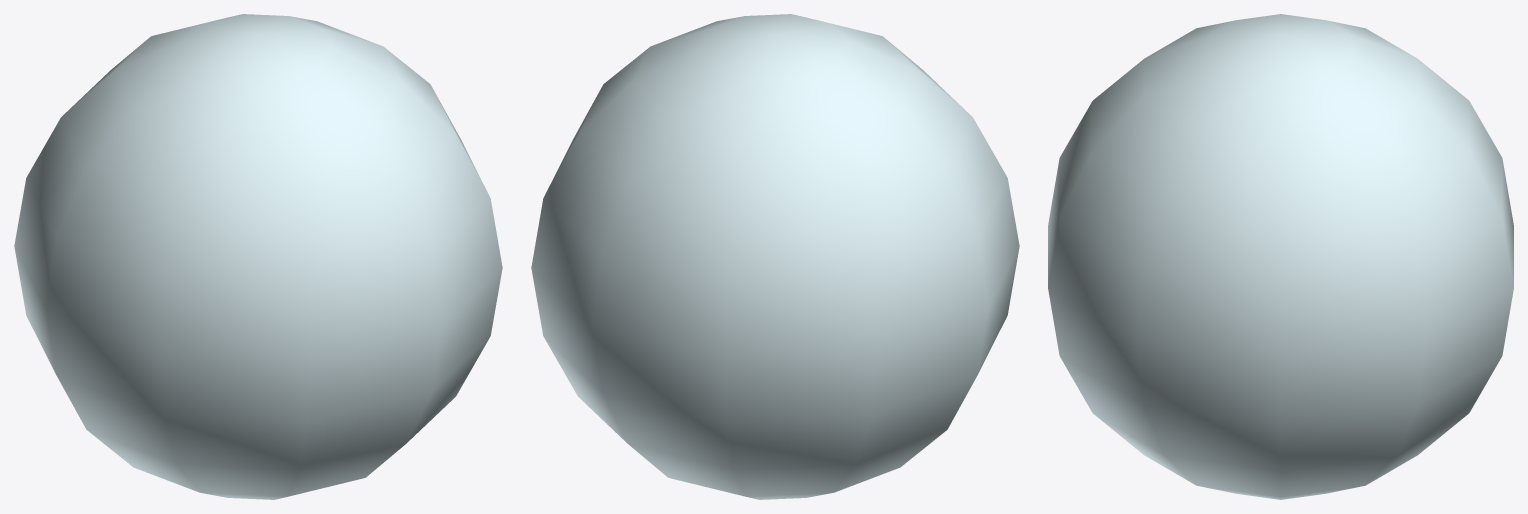
Rendered from potion_mesh.fbx.
3 renders of one model, left to right at view 1: azimuth 30°, elevation 25°; view 2: azimuth 150°, elevation 25°; view 3: azimuth 270°, elevation 25°, orthographic.
Parts seen in each view (by area): view 1: pSphere6; view 2: pSphere6; view 3: pSphere6.
Part boxes in pixels (x1,y1,x2,y2): pSphere6: [14, 14, 502, 499]; pSphere6: [531, 14, 1019, 499]; pSphere6: [1048, 14, 1513, 499].
Size of the model in its own units: 7.04 by 7.04 by 6.69.
